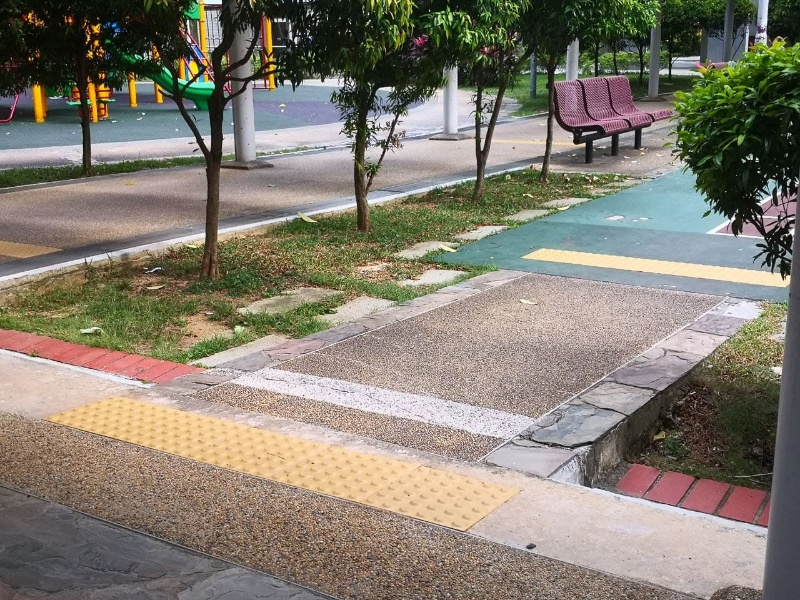slope: (237, 291, 769, 388)
